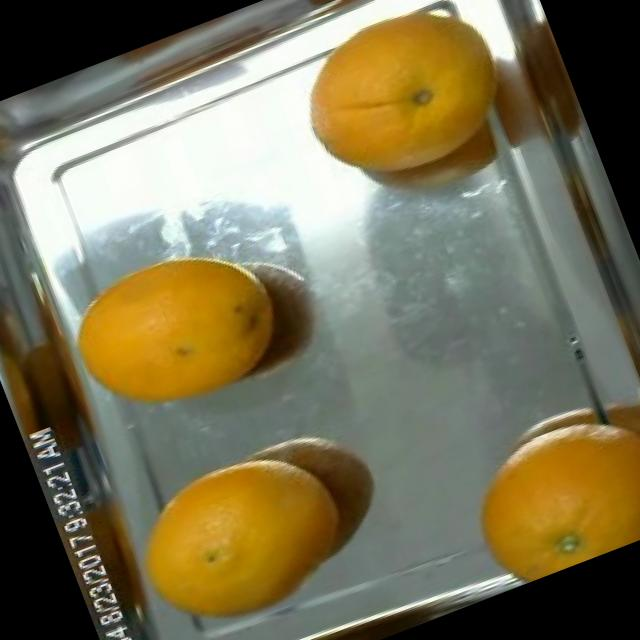Fruit: (94, 411, 375, 640), (43, 217, 304, 452), (429, 377, 640, 599)
